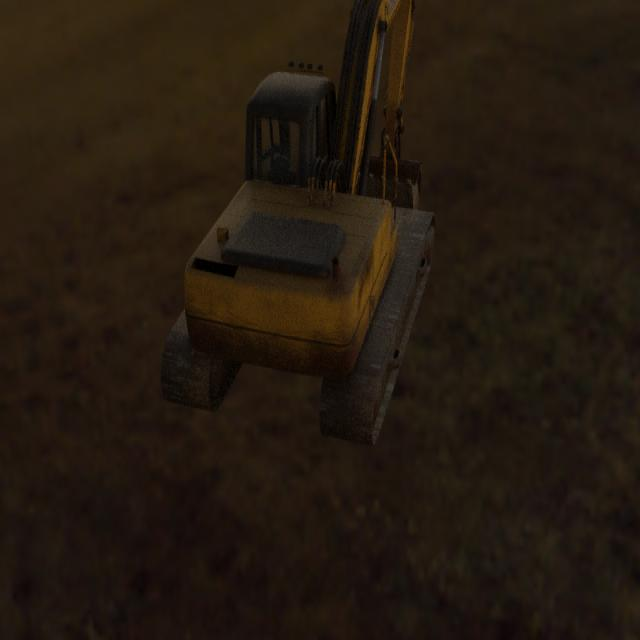excavator: (160, 0, 435, 448)
